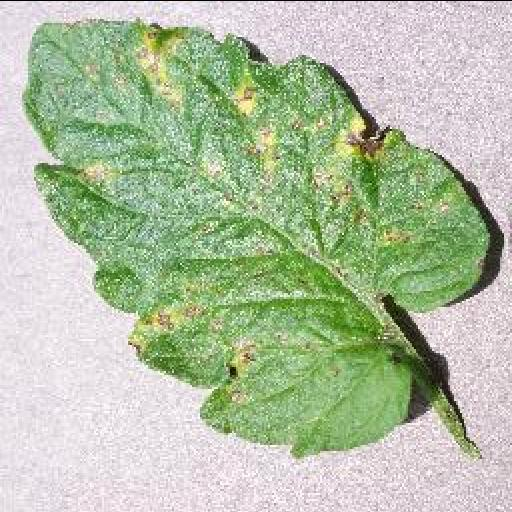disease_tomato: (24, 22, 490, 456)
